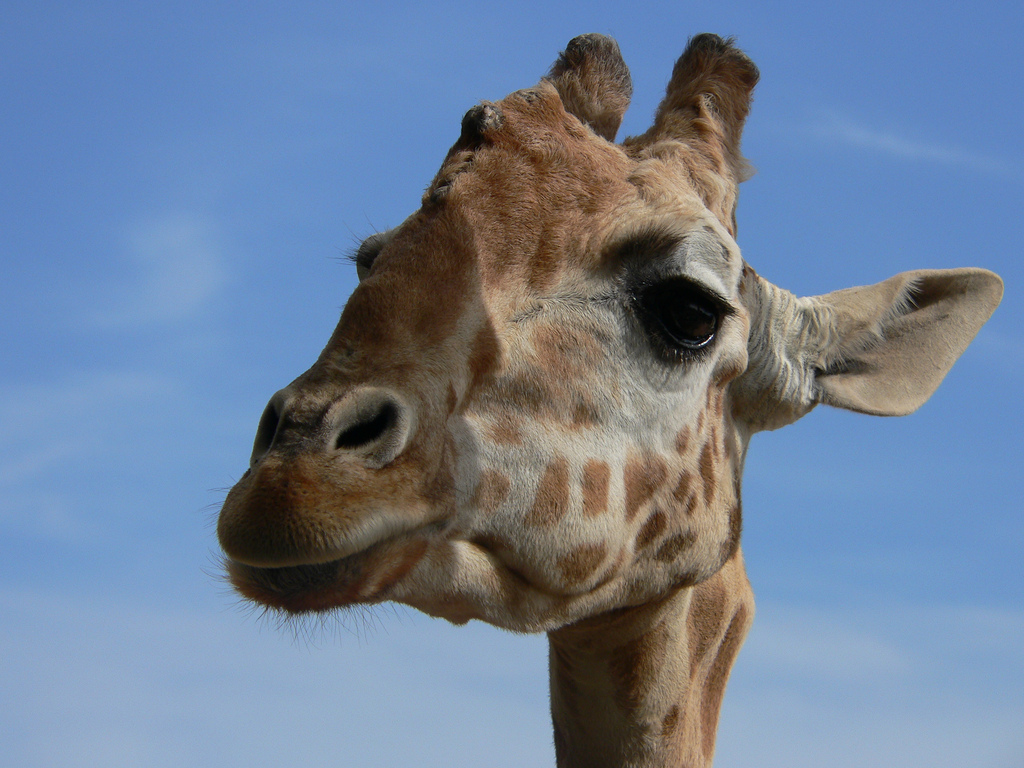giraffe: (211, 23, 996, 723)
